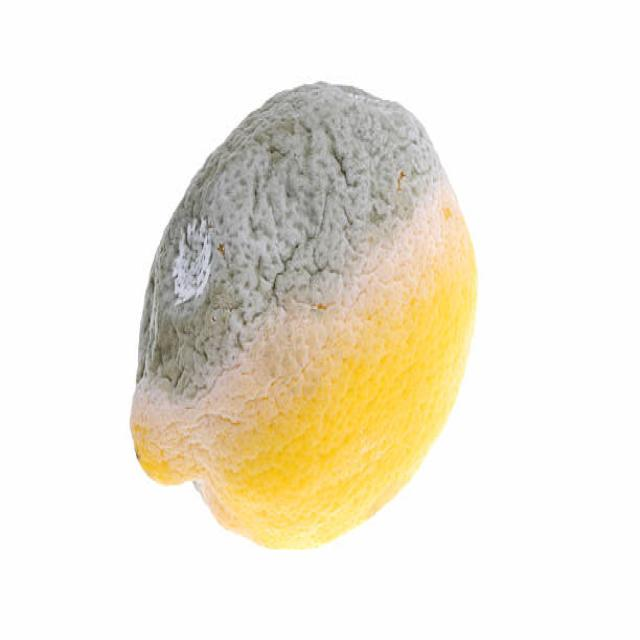Rotten: (126, 81, 479, 549)
